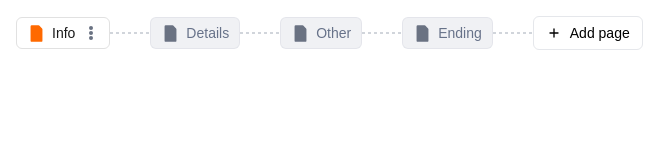
Test: PageNavigationContainer › Hover Add Button Integration › should handle multiple divider hovers correctly
This screenshot has width=660, height=160.
Hover over the 5th element with class "items-center" at (130, 33), box [110,32,150,34]
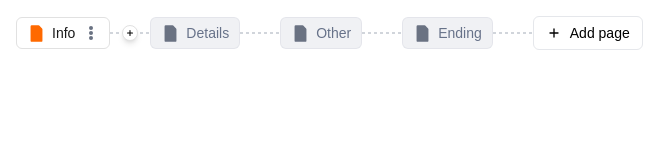
Check: the button named "Add page after position 0" is shown, box [122,25,138,41]
Move the pointer off the 5th element with class "items-center", box [110,25,150,41]
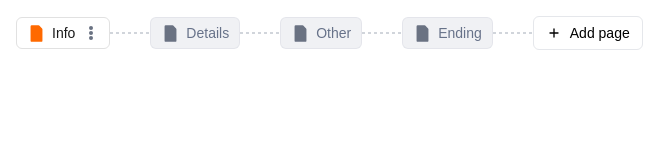
Hover over the 7th element with class "items-center" at (260, 33), box [240,32,280,34]
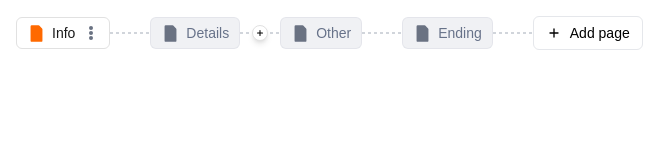
Check: the button named "Add page after position 1" is shown, box [252,25,268,41]
